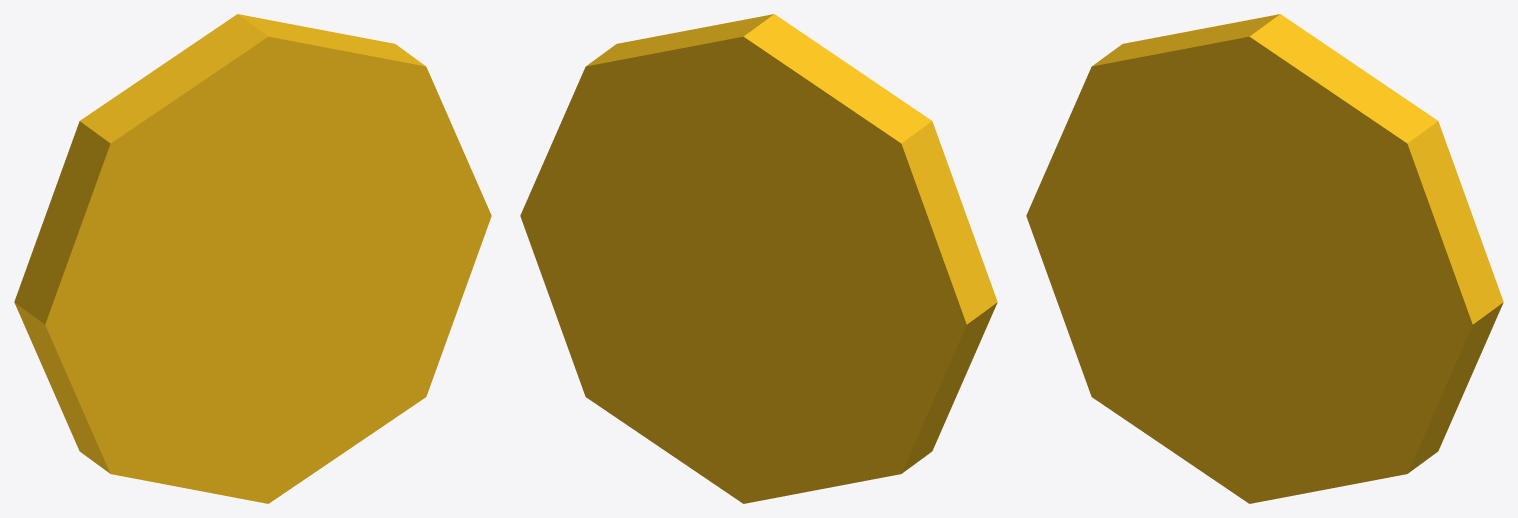
Rendered from coin.obj.
3 renders of one model, left to right at view 1: azimuth 30°, elevation 25°; view 2: azimuth 150°, elevation 25°; view 3: azimuth 330°, elevation 25°, orthographic.
Parts seen in each view (by area): view 1: coin; view 2: coin; view 3: coin.
Boxes of the visible parts, <box> form: coin: <box>14,14,491,503</box>; coin: <box>520,14,997,503</box>; coin: <box>1026,14,1503,503</box>.
Bounding box in the file's own units: 1 × 1 × 0.12.
